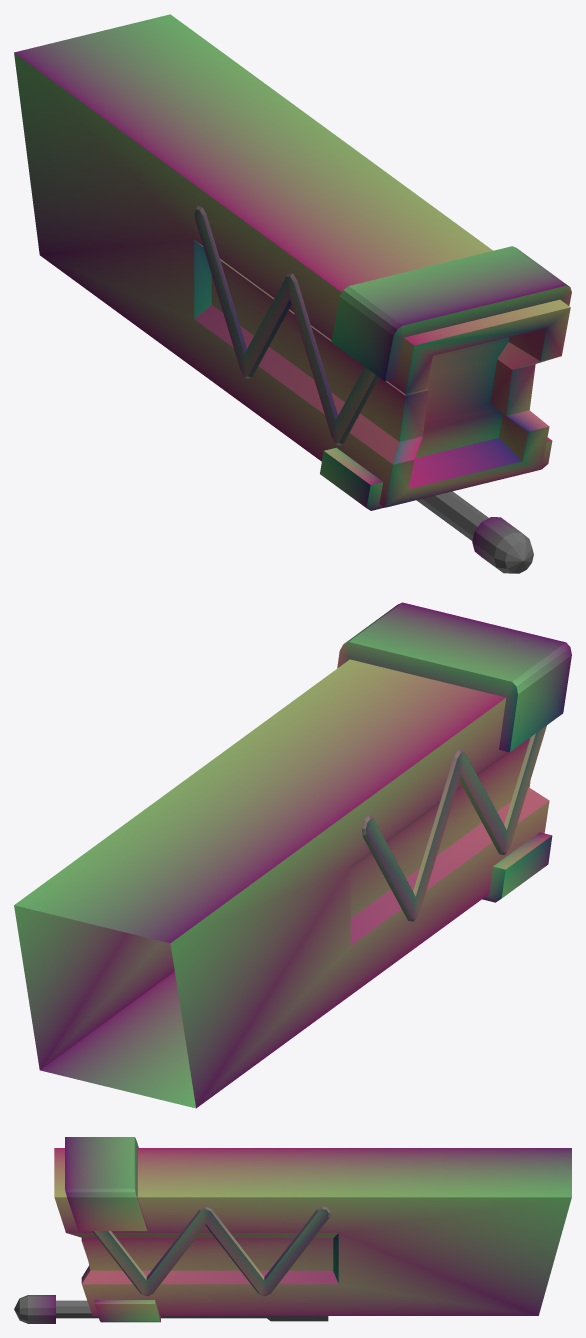
The model's file is Eff_Nostradamus_weapon01.fbx.
The picture shows the model from 3 angles, top to bottom: view 1: azimuth 30°, elevation 25°; view 2: azimuth 150°, elevation 25°; view 3: azimuth 270°, elevation 25°; orthographic projection. The views are drawn at different scales.
Visible parts, largest first — view 1: Eff_Nostradamus_weapon01; view 2: Eff_Nostradamus_weapon01; view 3: Eff_Nostradamus_weapon01.
Part boxes in pixels (left/top/right/bottom): Eff_Nostradamus_weapon01: left=14, top=14, right=571, bottom=573; Eff_Nostradamus_weapon01: left=14, top=602, right=571, bottom=1108; Eff_Nostradamus_weapon01: left=14, top=1137, right=571, bottom=1323.
Bounding box in the file's own units: 0.2277 × 0.2957 × 0.936.
